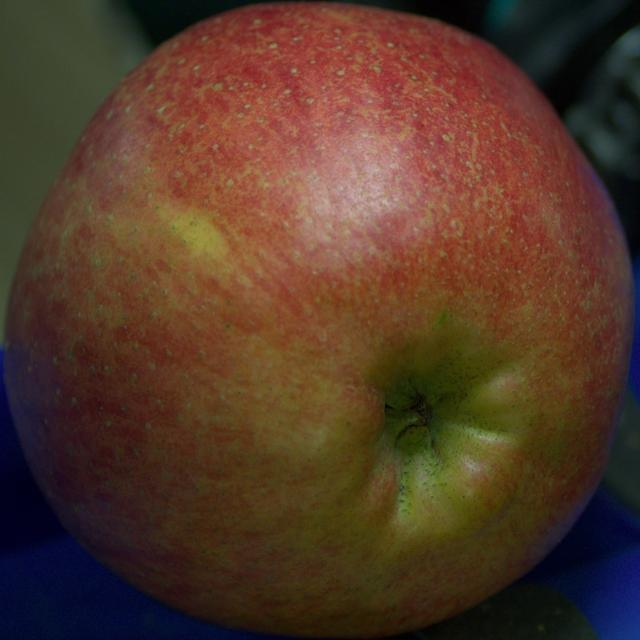apple: (4, 3, 633, 637)
